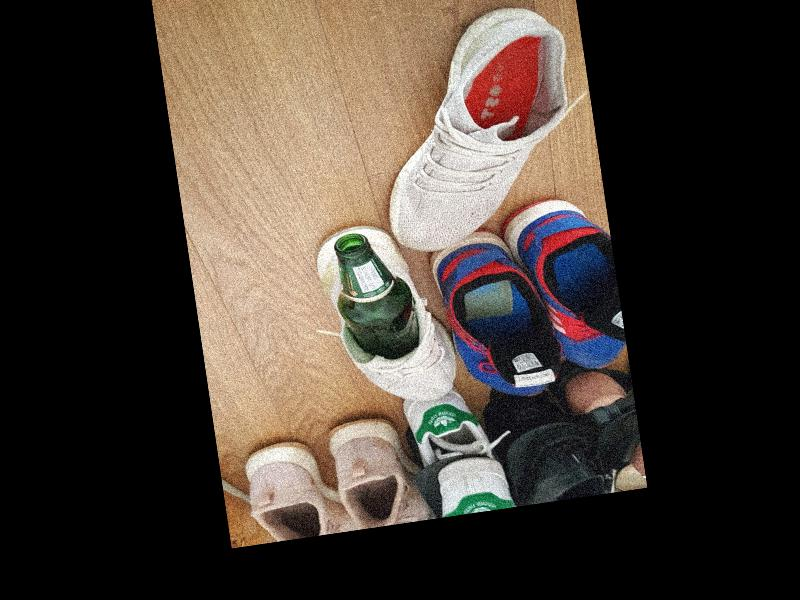Beer: (327, 225, 423, 364)
